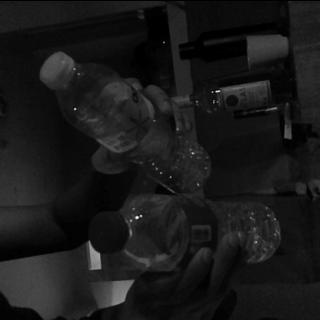plastic_bottles: (38, 51, 212, 193), (87, 198, 282, 266)
